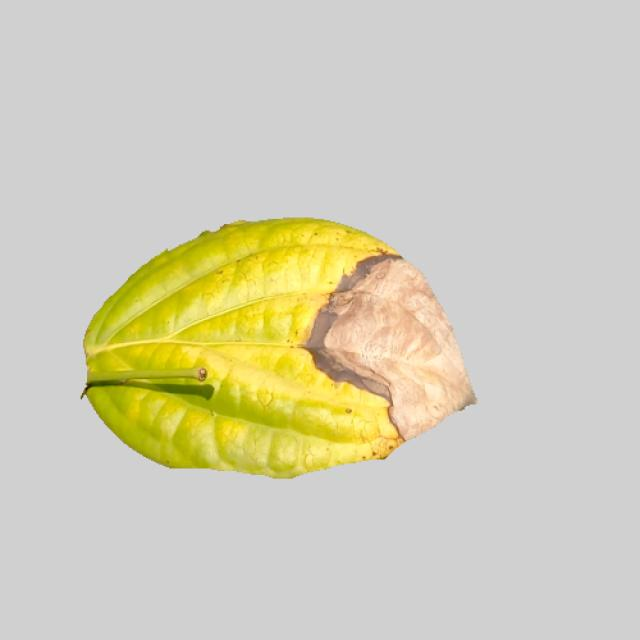leaf-blight: (77, 217, 485, 478)
